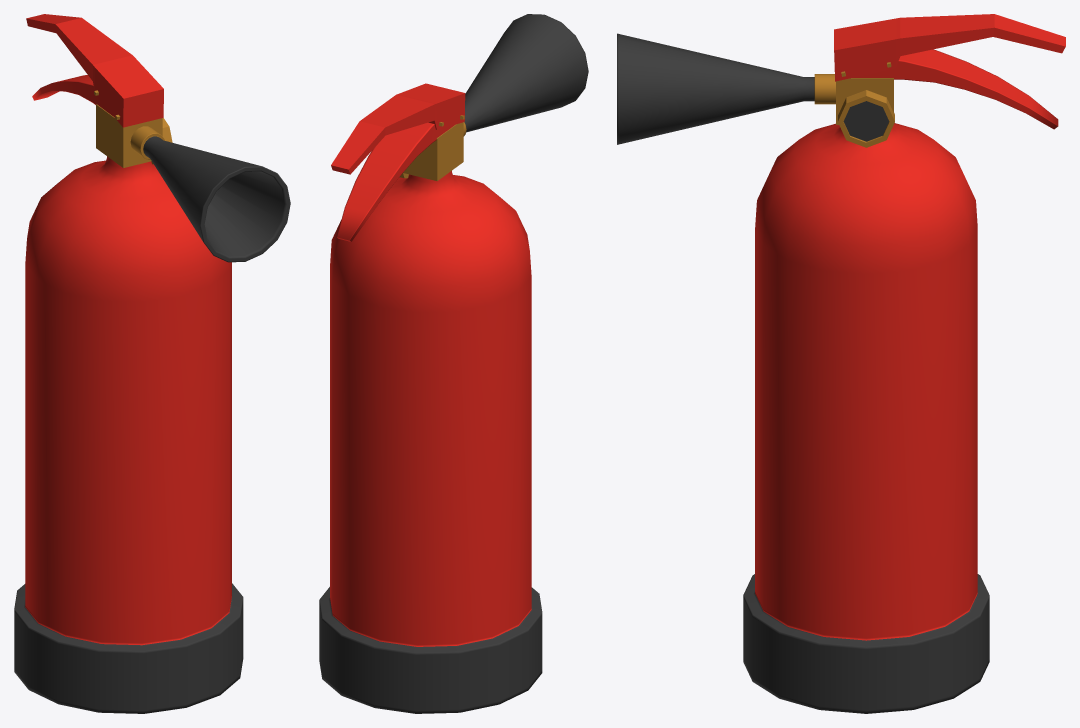
The model's file is SM_Extincteur.fbx.
3 renders of one model, left to right at view 1: azimuth 30°, elevation 25°; view 2: azimuth 150°, elevation 25°; view 3: azimuth 270°, elevation 25°, orthographic. The views are drawn at different scales.
Parts seen in each view (by area): view 1: Cylinder; view 2: Cylinder; view 3: Cylinder.
Boxes of the visible parts, x1=… form: Cylinder: x1=14, y1=14, x2=290, y2=713; Cylinder: x1=319, y1=14, x2=588, y2=713; Cylinder: x1=617, y1=14, x2=1065, y2=713.
Bounding box in the file's own units: 22.14 × 63.55 × 40.31.
